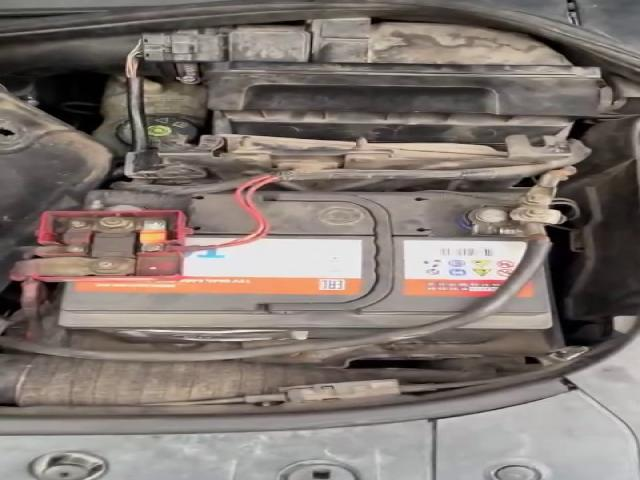accumulator: (33, 183, 558, 330)
